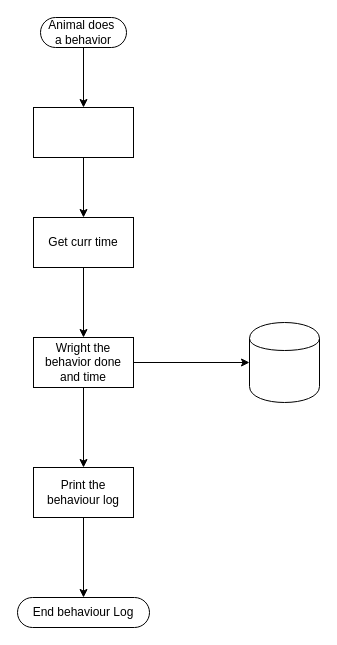
Some shapes in this 337 by 645 pixel diagram are drawn without their labels. Here are the shapes that lost their labels. From the top down, the box of each, then its label:
(32, 106, 134, 158): List the animals envolved
(248, 322, 320, 402): Behaviours
